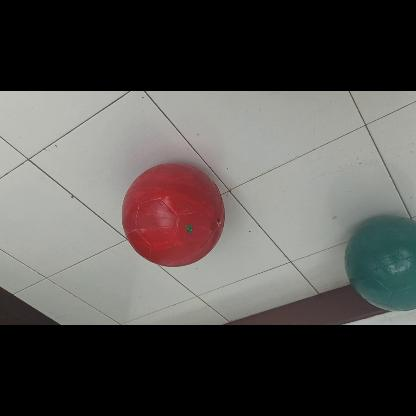red_ball: (118, 162, 224, 268)
